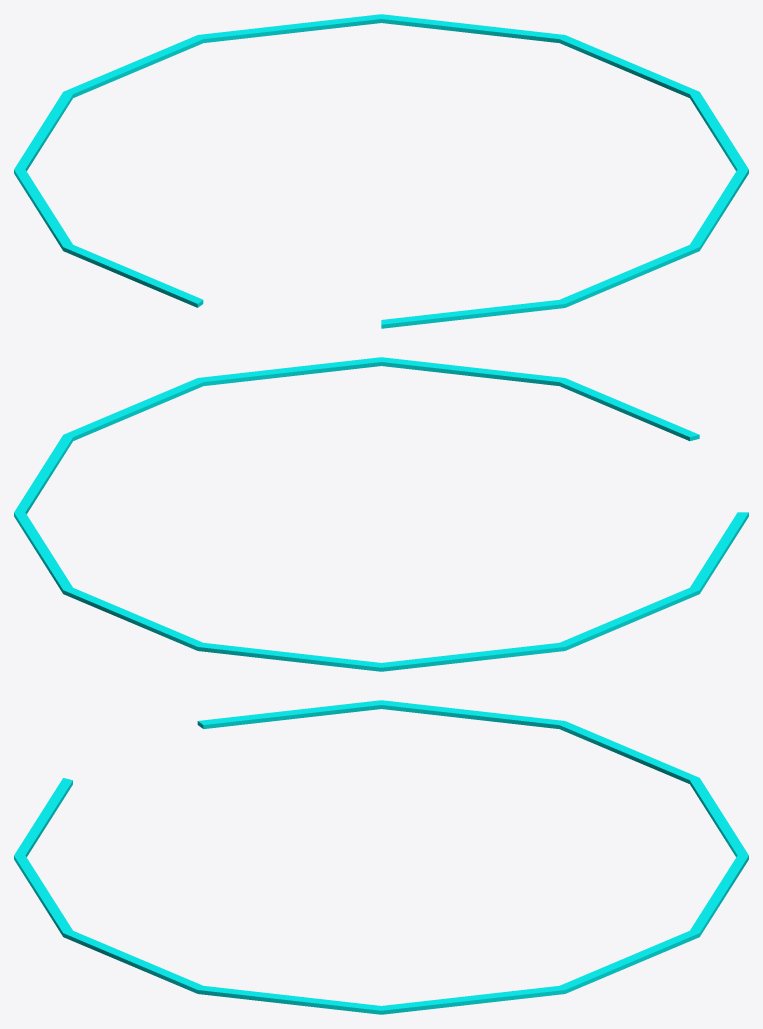
The model's file is InsideRim.FBX.
3 renders of one model, top to bottom at view 1: azimuth 30°, elevation 25°; view 2: azimuth 150°, elevation 25°; view 3: azimuth 270°, elevation 25°, orthographic.
Parts seen in each view (by area): view 1: InsideRim; view 2: InsideRim; view 3: InsideRim.
Part boxes in pixels (x1=…): InsideRim: x1=14, y1=14, x2=748, y2=328; InsideRim: x1=14, y1=357, x2=748, y2=671; InsideRim: x1=14, y1=700, x2=748, y2=1014.
Size of the model in its own units: 5049 by 5049 by 30.51.
